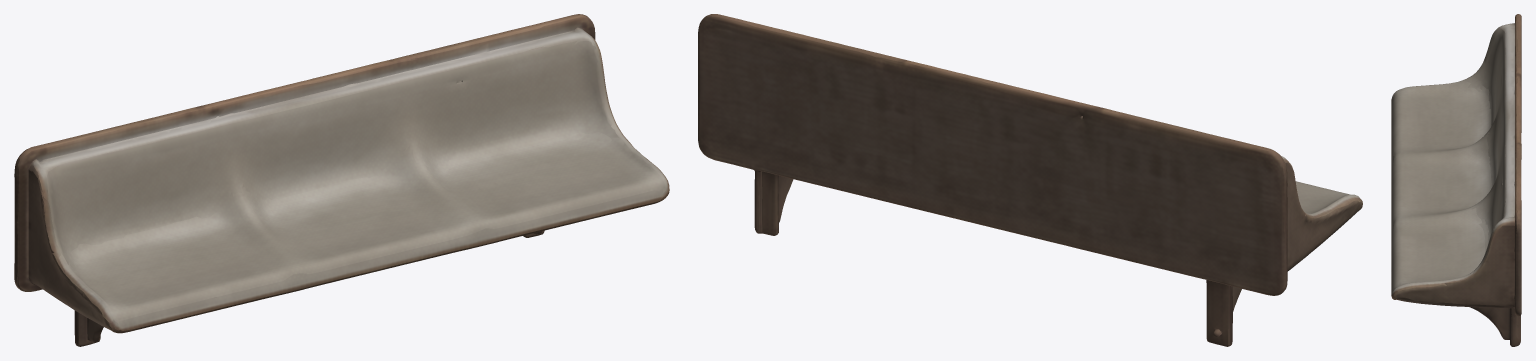
File: bench_v2.glb
3 views of the same model, side by side, from view 1: azimuth 30°, elevation 25°; view 2: azimuth 150°, elevation 25°; view 3: azimuth 270°, elevation 25° (orthographic). The views are drawn at different scales.
Visible parts, largest first — view 1: world; view 2: world; view 3: world.
Part boxes in pixels (box(x1,y1,x2,y2)): world: box(14, 14, 669, 346); world: box(698, 14, 1362, 346); world: box(1391, 14, 1521, 346).
Size of the model in its own units: 2.4 by 0.8217 by 0.6397.
1 material, 1 textured.
